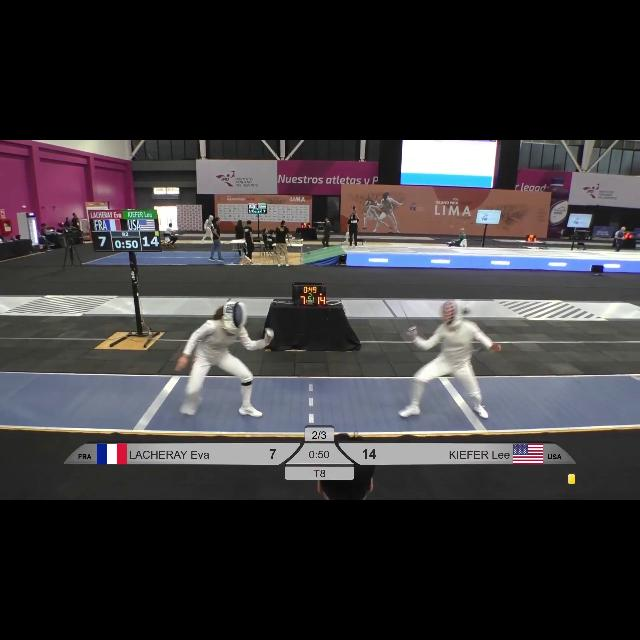blade: (395, 294, 417, 332)
